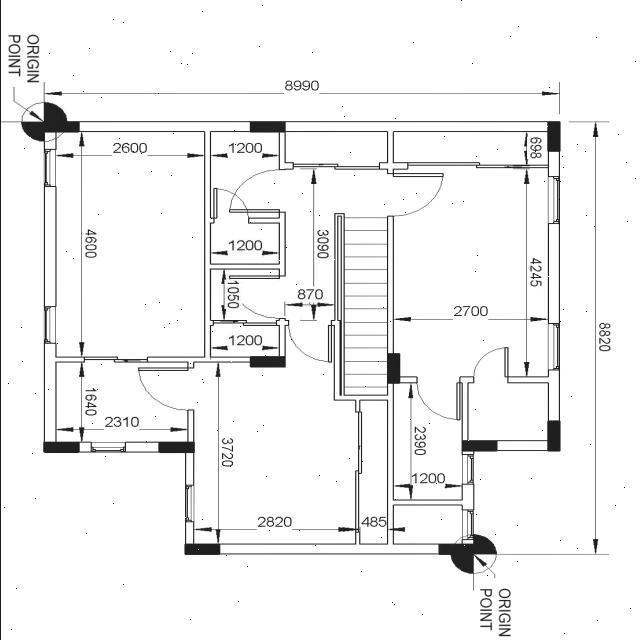Column: (546, 420, 560, 452), (183, 543, 220, 555), (546, 121, 560, 152), (437, 543, 473, 555), (158, 442, 194, 454), (42, 442, 78, 454), (43, 121, 79, 133), (249, 121, 285, 133), (249, 356, 285, 368), (461, 440, 496, 452), (386, 354, 400, 384)
Door: (227, 269, 284, 321), (227, 168, 285, 218), (386, 168, 444, 216), (137, 362, 193, 411), (416, 376, 462, 421), (287, 320, 334, 364), (466, 347, 508, 383), (209, 188, 248, 224)
Sliding Door: (406, 162, 548, 168), (354, 412, 361, 532), (292, 162, 379, 170), (83, 357, 147, 362)
Staircase: (344, 170, 386, 394)
Window: (547, 176, 559, 224), (547, 322, 559, 370), (43, 149, 55, 187), (43, 306, 55, 344), (461, 454, 474, 484), (461, 510, 474, 540), (184, 485, 194, 522), (90, 442, 126, 452)
